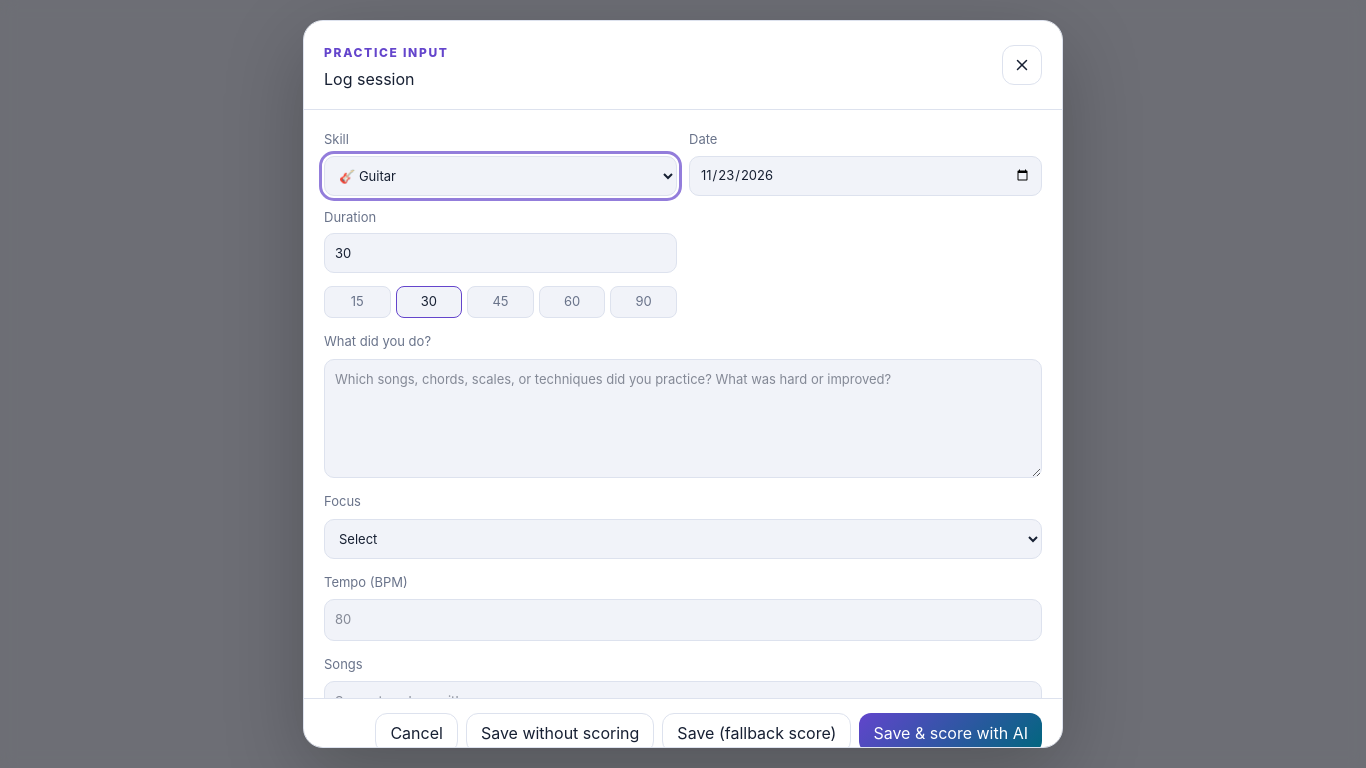
Test case: LogSessionModal › logs a fallback-scored session
The image size is (1366, 768).
Type "Practiced chord changes and reviewed a recording" into the text box labelled "What did you do?" at (683, 418), box left=324, top=358, right=1042, bottom=478
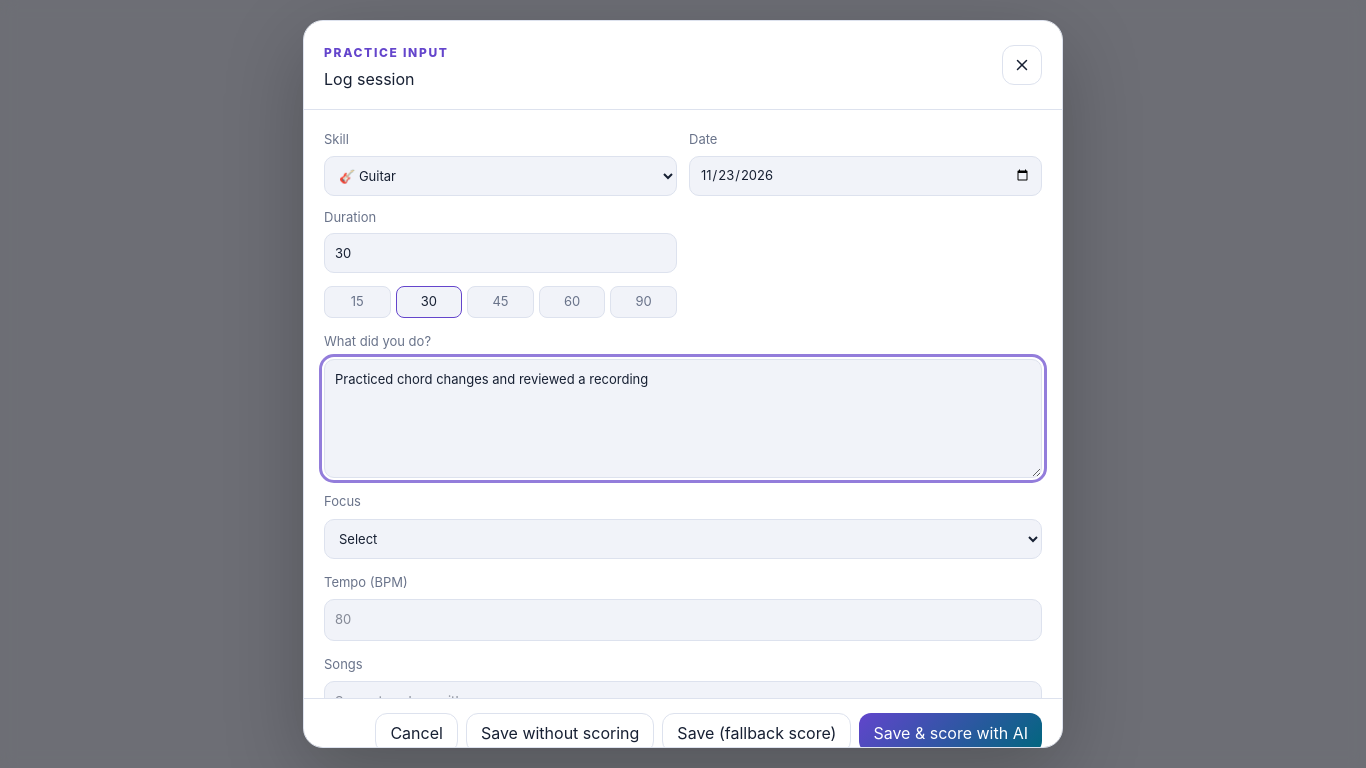
Click the button "Save (fallback score)" at (757, 733), box left=662, top=713, right=851, bottom=753
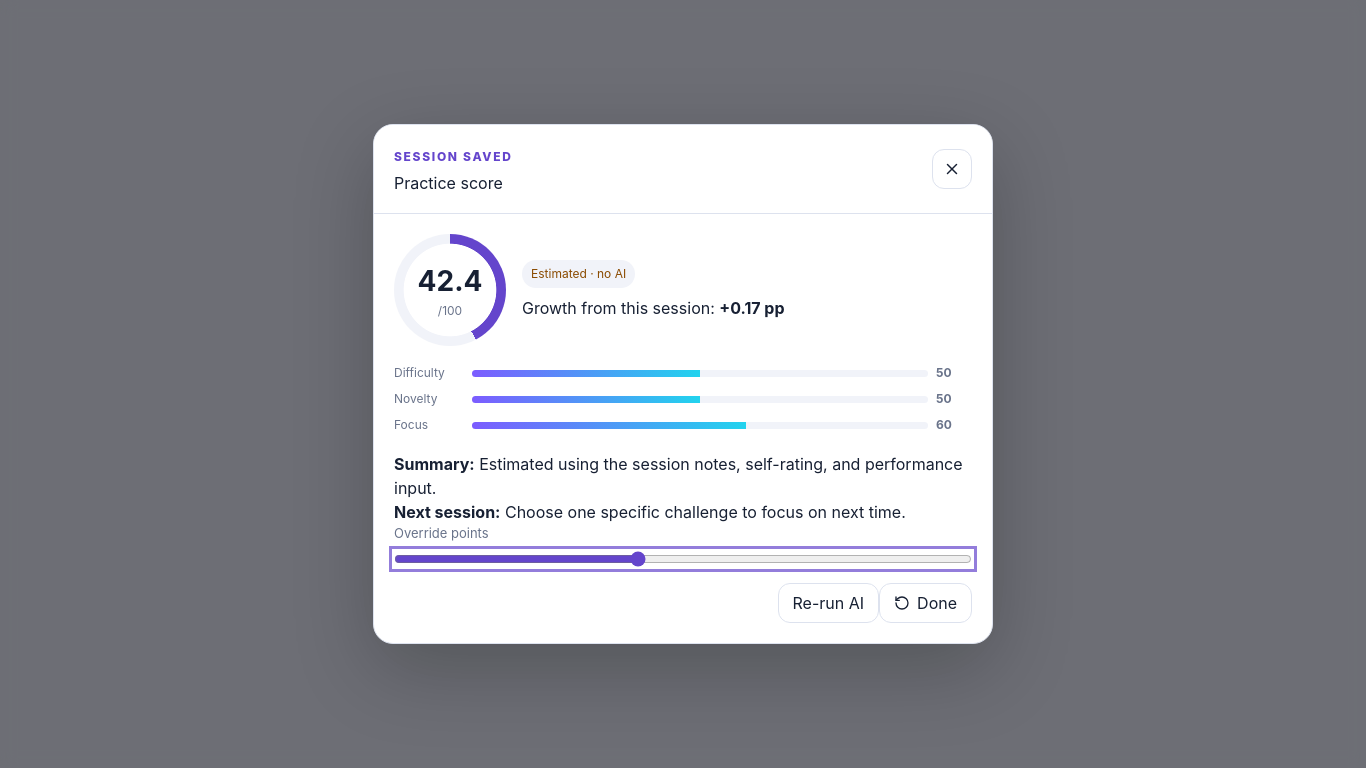
Now the dialog named "Session result" is shown, box left=373, top=124, right=993, bottom=644
Now the text "Estimated · no AI" is shown, box left=522, top=260, right=635, bottom=288
